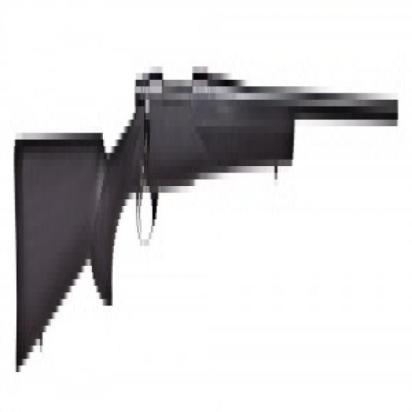Gun: (14, 61, 400, 375)
